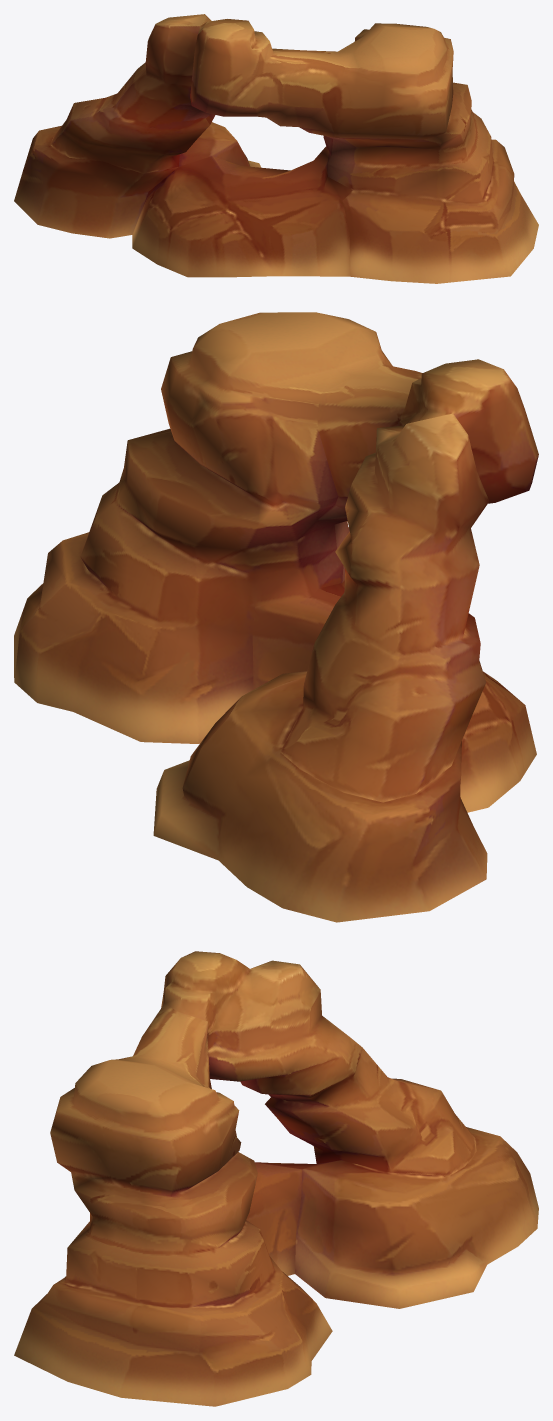
File: huangyexingqiu_shitou06.FBX
3 renders of one model, top to bottom at view 1: azimuth 30°, elevation 25°; view 2: azimuth 150°, elevation 25°; view 3: azimuth 270°, elevation 25°, orthographic. The views are drawn at different scales.
Visible parts, largest first — view 1: huangyexingqiu_shitou06; view 2: huangyexingqiu_shitou06; view 3: huangyexingqiu_shitou06.
Part boxes in pixels (bbox=[...]): huangyexingqiu_shitou06: bbox=[14, 14, 538, 283]; huangyexingqiu_shitou06: bbox=[14, 312, 538, 922]; huangyexingqiu_shitou06: bbox=[14, 951, 538, 1406].
Bounding box in the file's own units: 6524 × 3798 × 6470.
